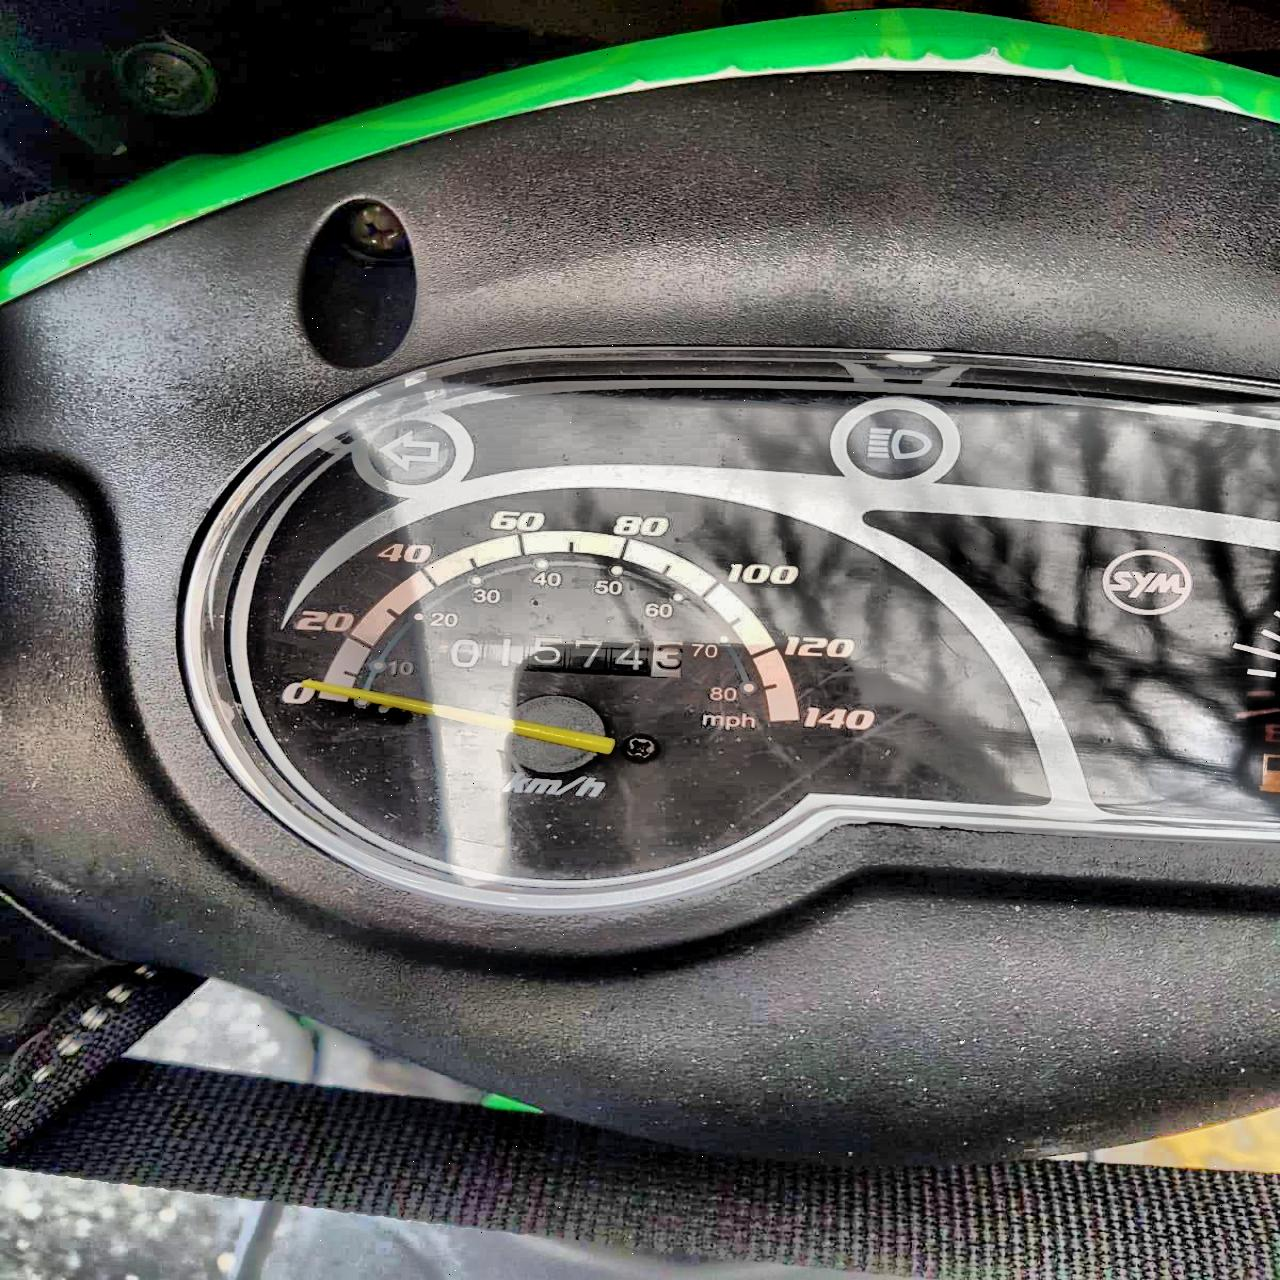0: (448, 636, 481, 674)
1: (495, 634, 516, 674)
3: (655, 641, 685, 672)
4: (611, 639, 644, 669)
5: (531, 633, 561, 668)
7: (571, 636, 602, 667)
odometer: (433, 629, 689, 685)
